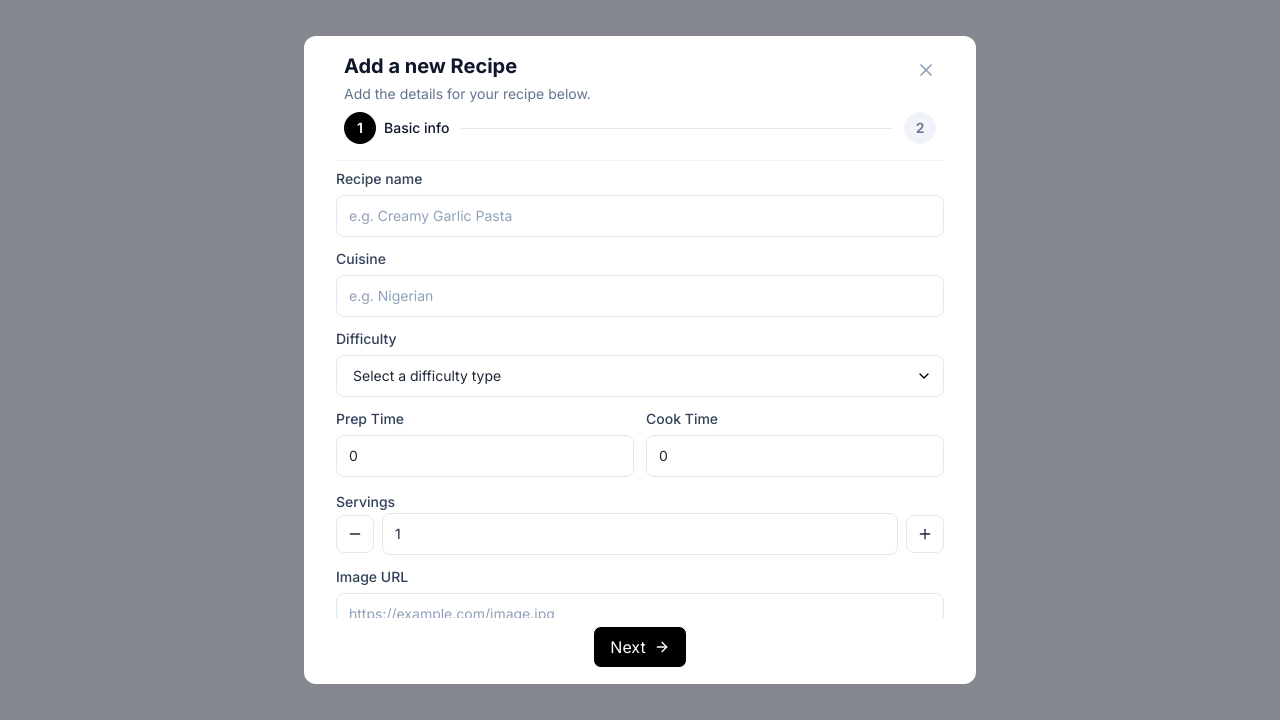
it: AddRecipeModal › moves to the recipe details step
Type "Jollof Rice" into the field labelled "Recipe name" at (640, 216), box [336,195,944,237]
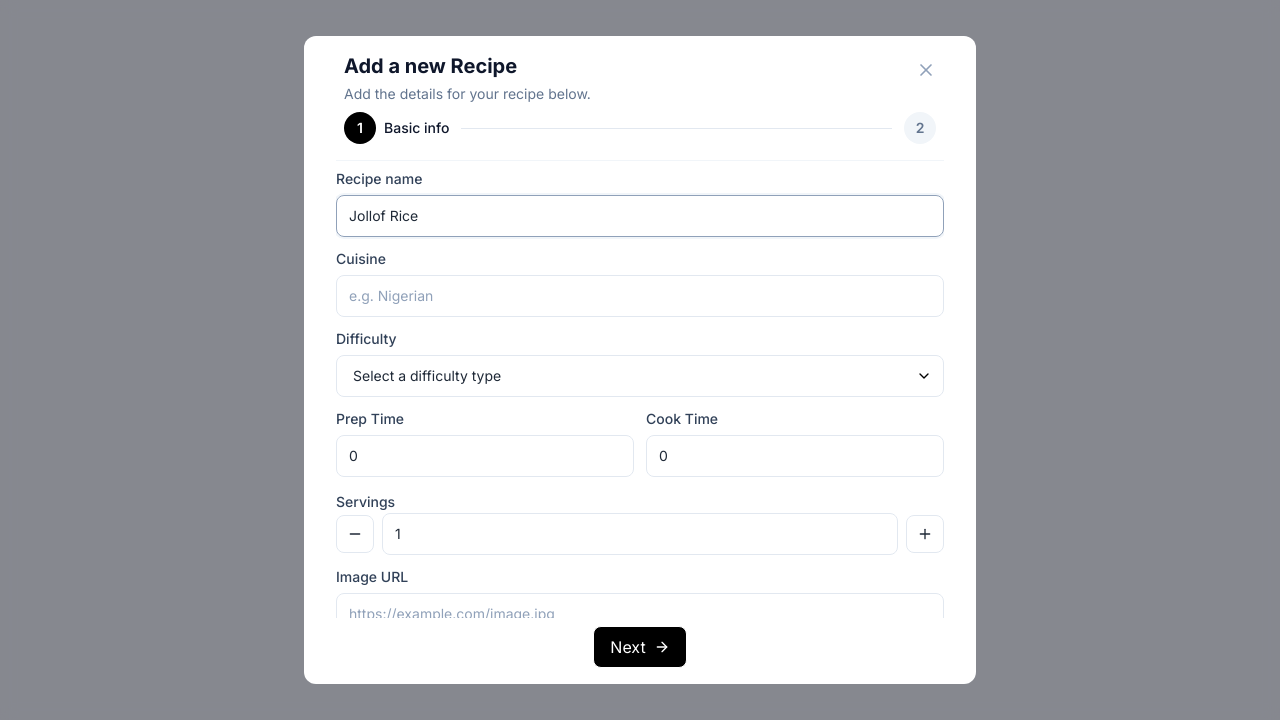
Type "Nigerian" into the field labelled "Cuisine" at (640, 296), box [336,275,944,317]
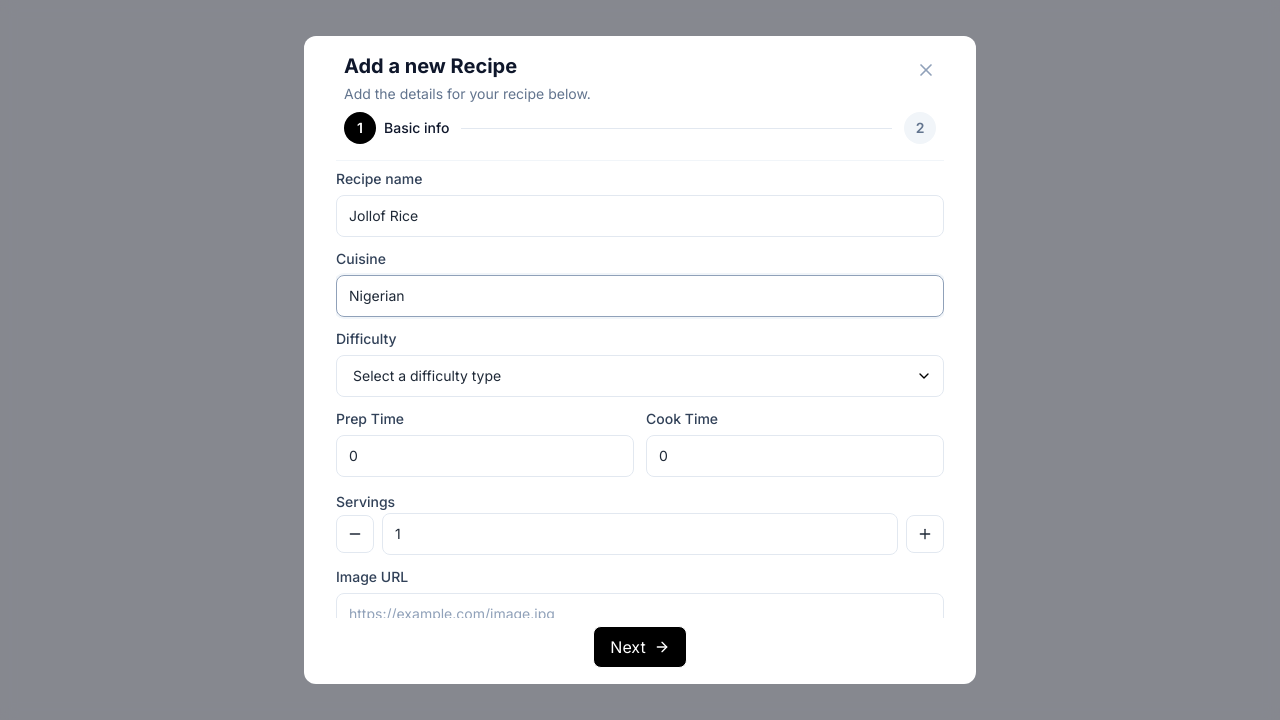
Select "Medium" in the dropdown labelled "Difficulty" at (640, 376), box [336,355,944,397]
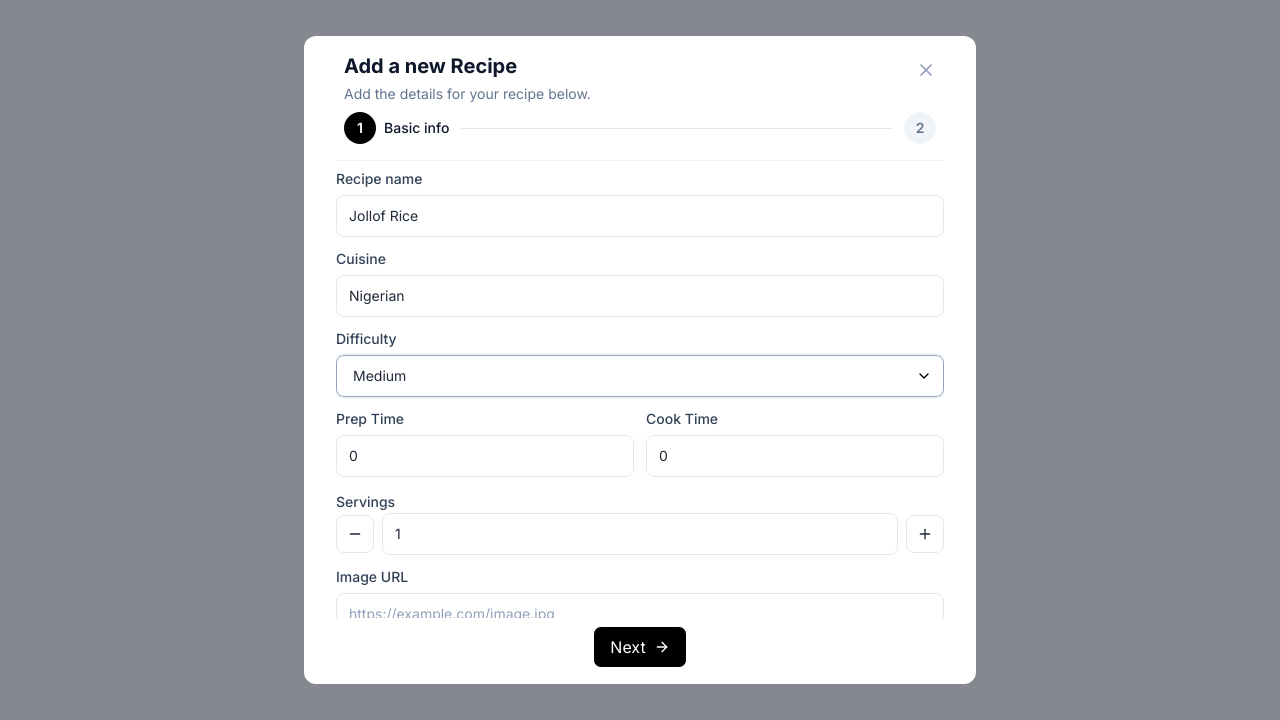
Type "https://example.com/jollof.jpg" into the field labelled "Image URL" at (640, 614), box [336,593,944,635]
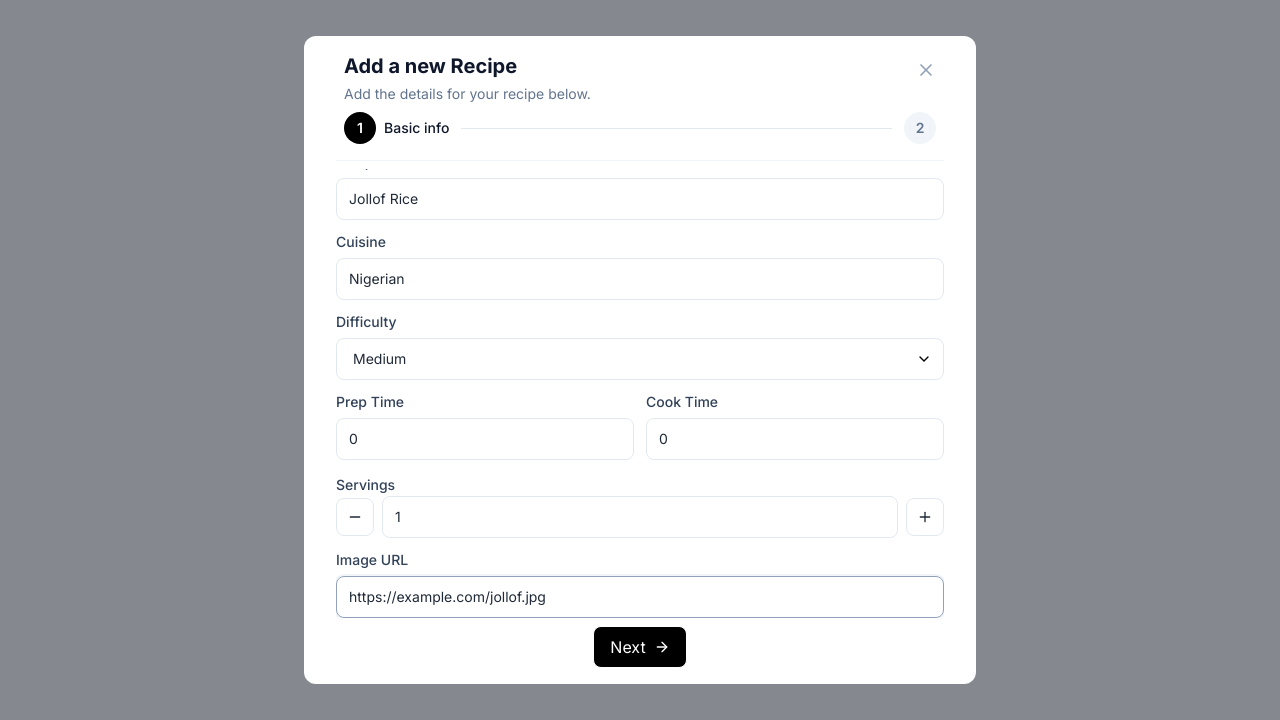
Click the button "Next" at (640, 647), box [593,626,687,668]
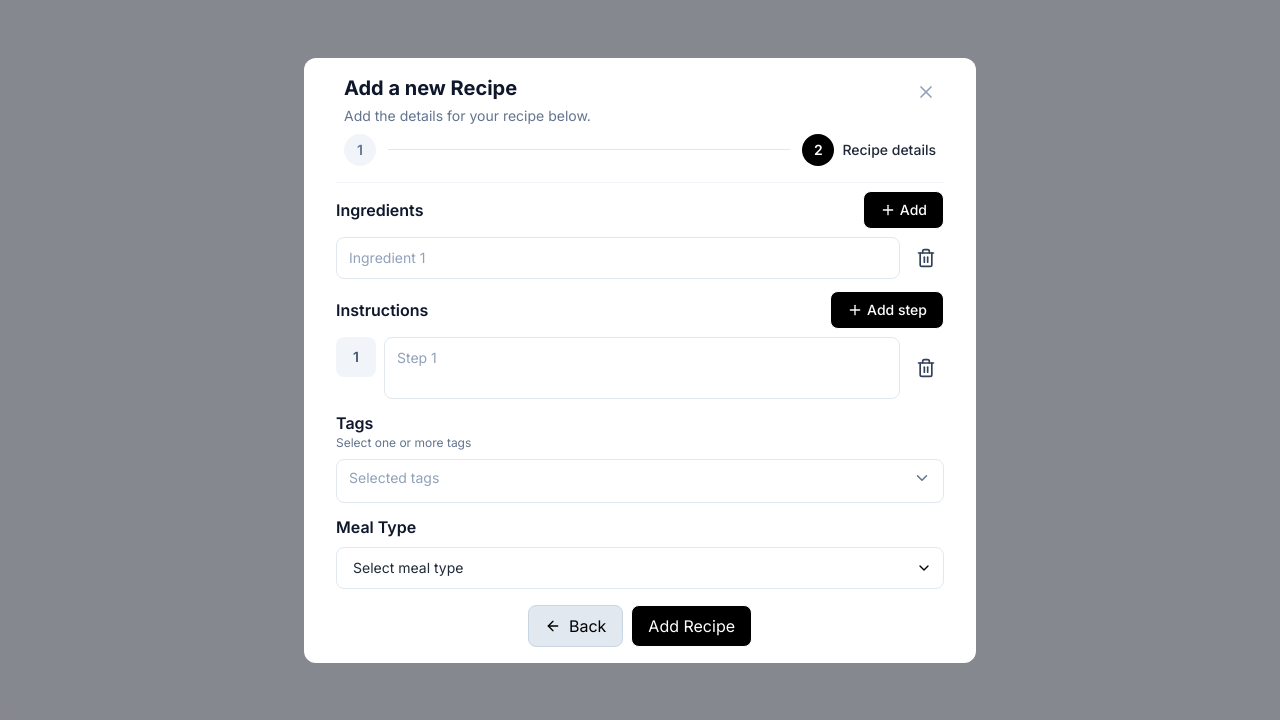
Check: the heading "Ingredients" is shown, box [336,198,423,222]
Check: the heading "Instructions" is shown, box [336,298,428,322]
Check: the text "Tags" is shown, box [336,412,373,432]
